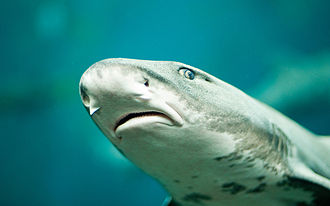Leopard Shark: (57, 13, 330, 206)
